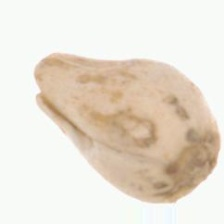L1: (175, 137, 220, 197), (34, 54, 56, 116)
L2: (33, 53, 220, 205)
